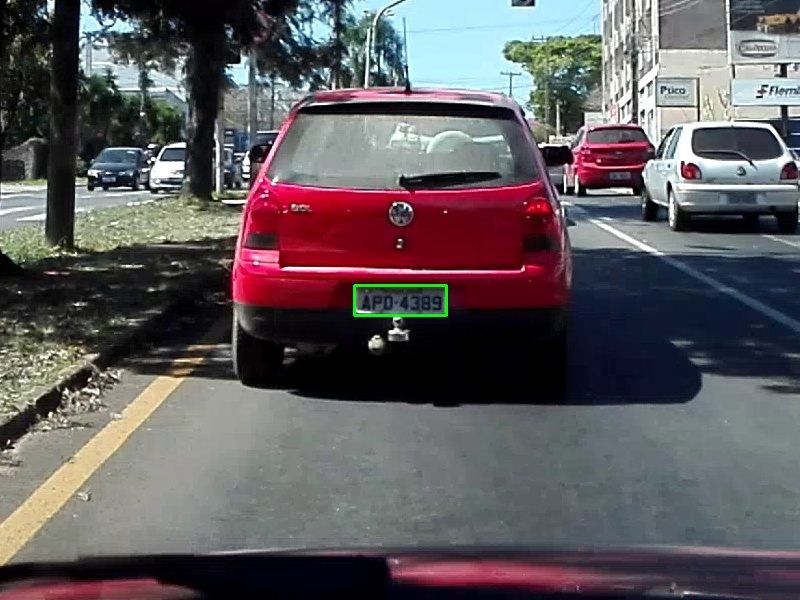placa: (354, 285, 446, 315)
